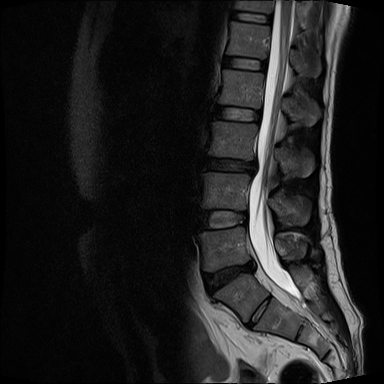Lumbar Disc Bulge (LDB): (192, 244, 262, 303), (200, 151, 273, 179)
Normal IVD: (192, 204, 251, 235), (206, 98, 264, 129), (219, 50, 268, 73), (227, 8, 274, 25)
Spinal Stenosis (SS): (239, 151, 272, 188), (236, 245, 263, 289)
